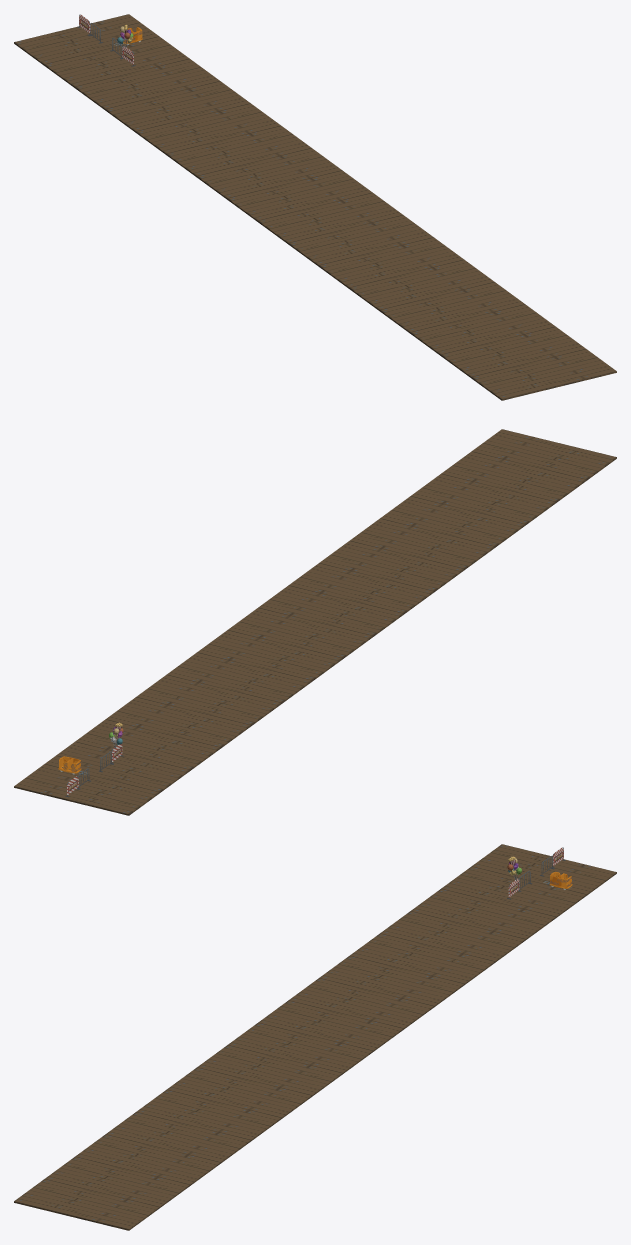
The model's file is stall_carny.glb.
3 renders of one model, top to bottom at view 1: azimuth 30°, elevation 25°; view 2: azimuth 150°, elevation 25°; view 3: azimuth 330°, elevation 25°, orthographic.
Parts seen in each view (by area): view 1: Boardwalk; view 2: Boardwalk; view 3: Boardwalk.
Boxes of the visible parts, x1,y1,x2,y2 form: Boardwalk: (14, 14, 616, 400); Boardwalk: (14, 429, 616, 815); Boardwalk: (14, 844, 616, 1230).
Size of the model in its own units: 10.76 by 3.67 by 79.04.
4 materials, 4 textured.
